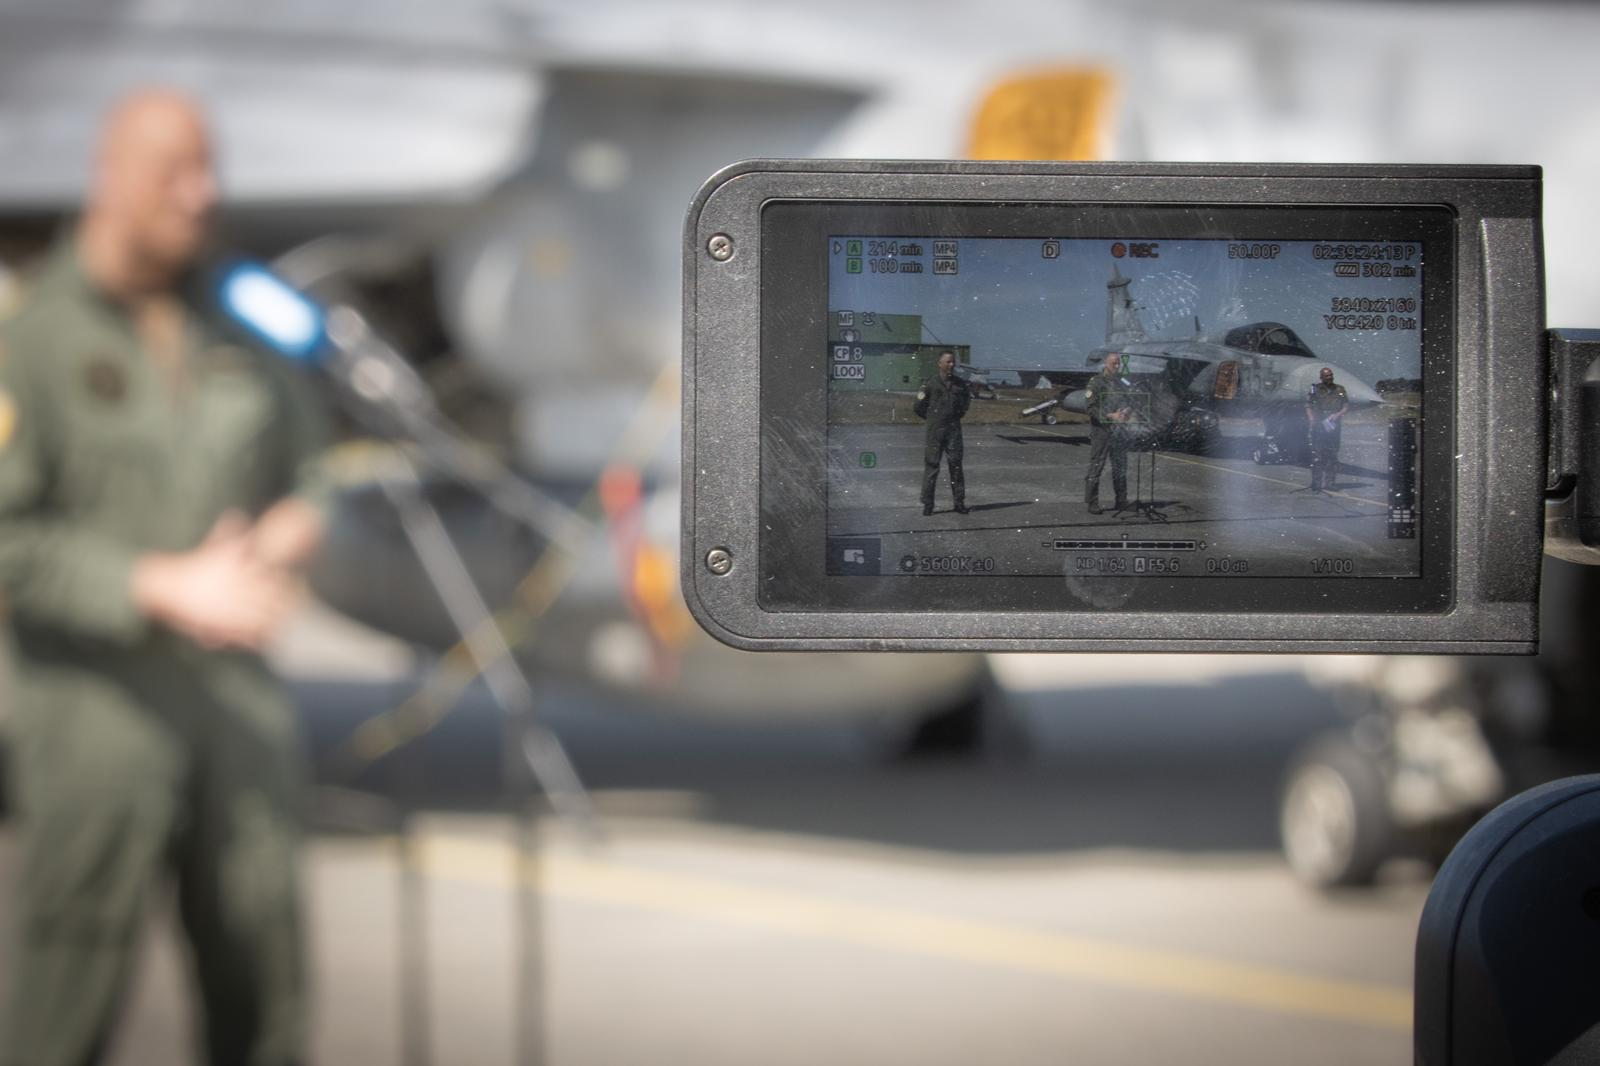airplane: (1, 1, 1600, 901), (959, 261, 1418, 465), (910, 345, 1015, 399)
